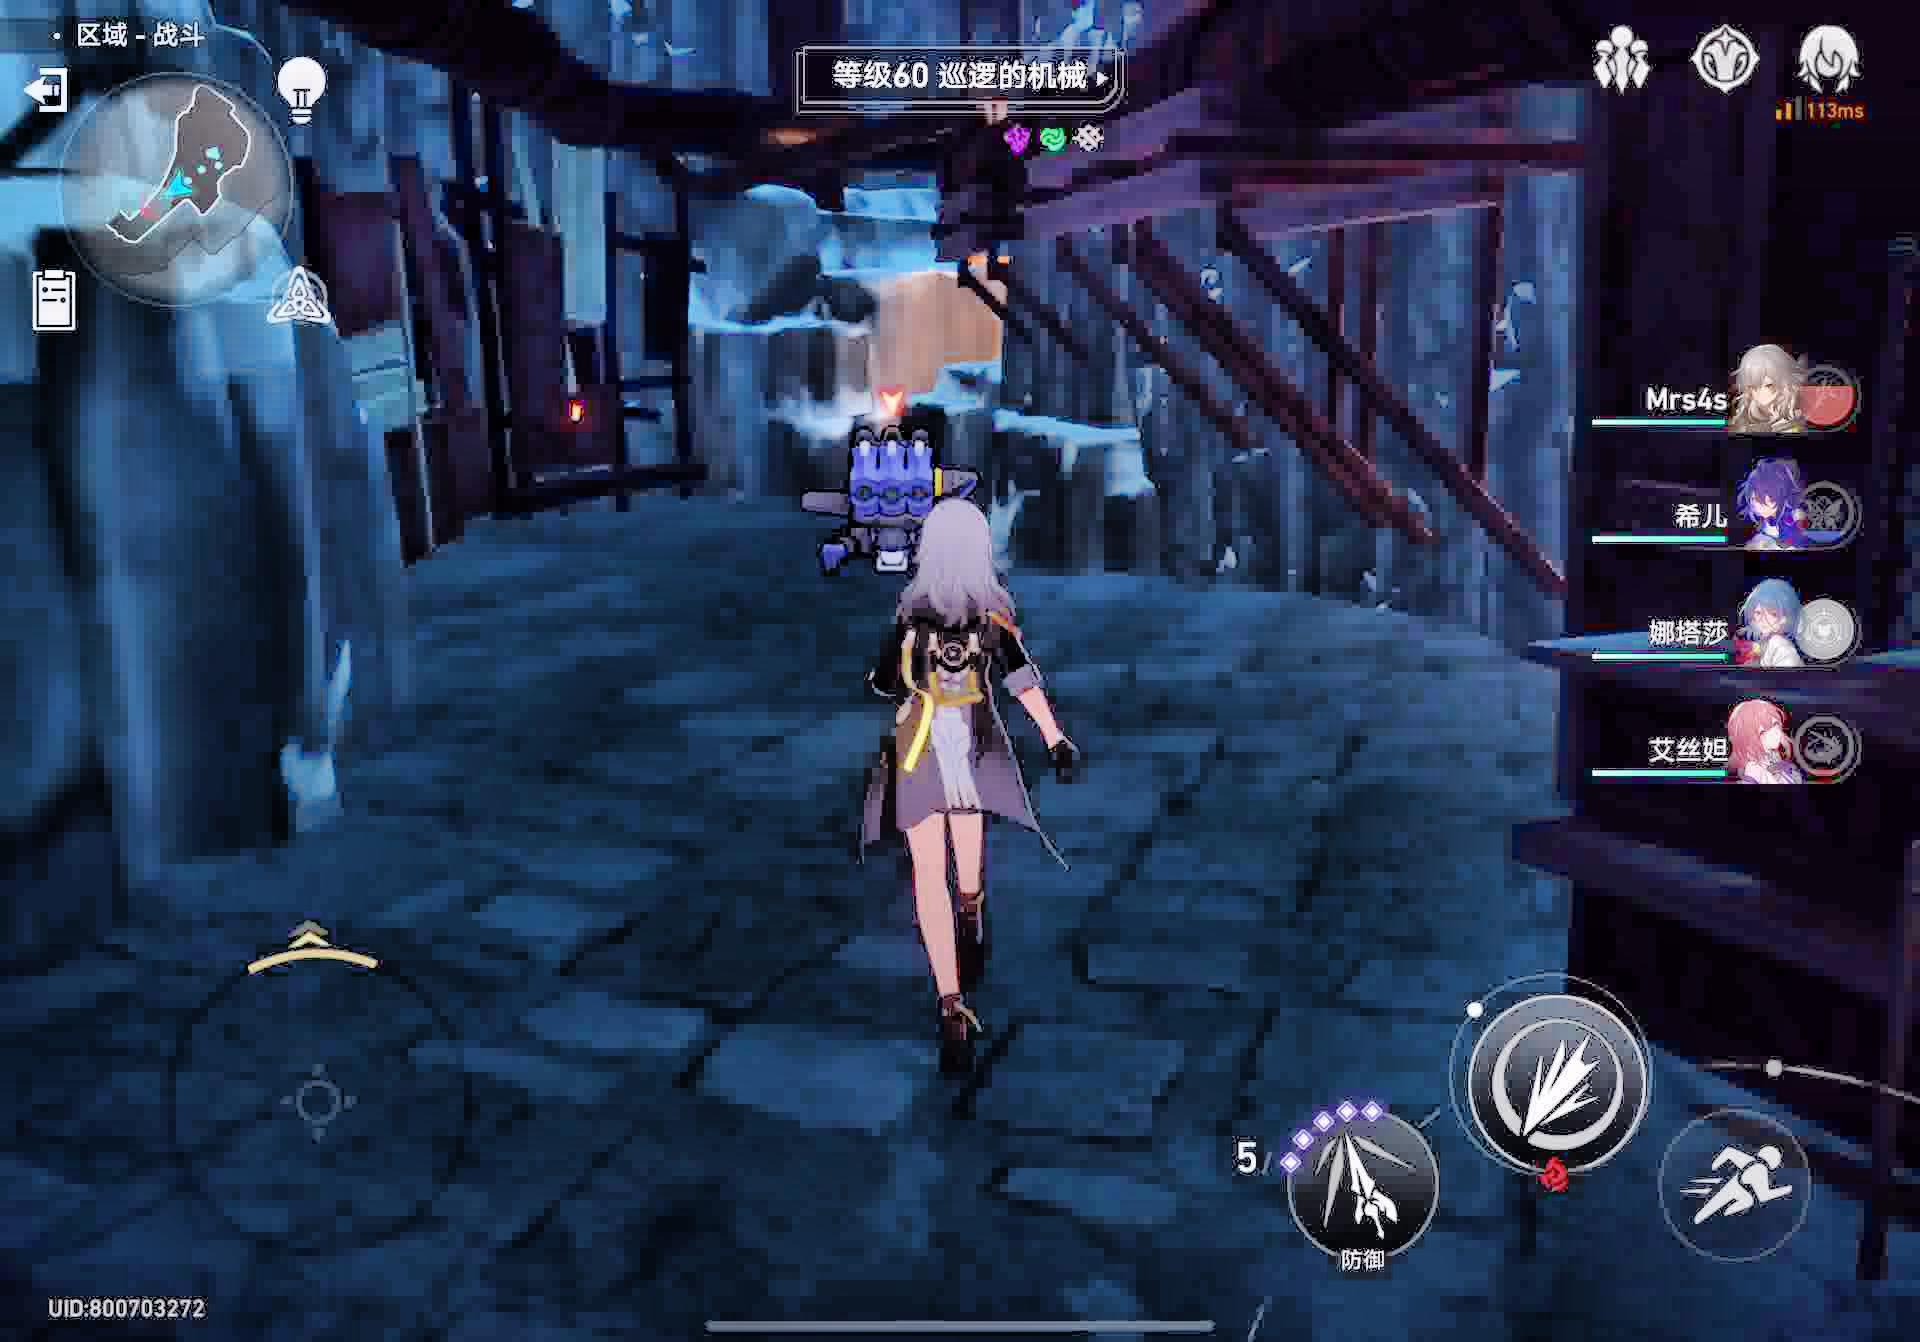Enemy: (832, 441, 967, 565)
Self: (858, 505, 1088, 1056)
